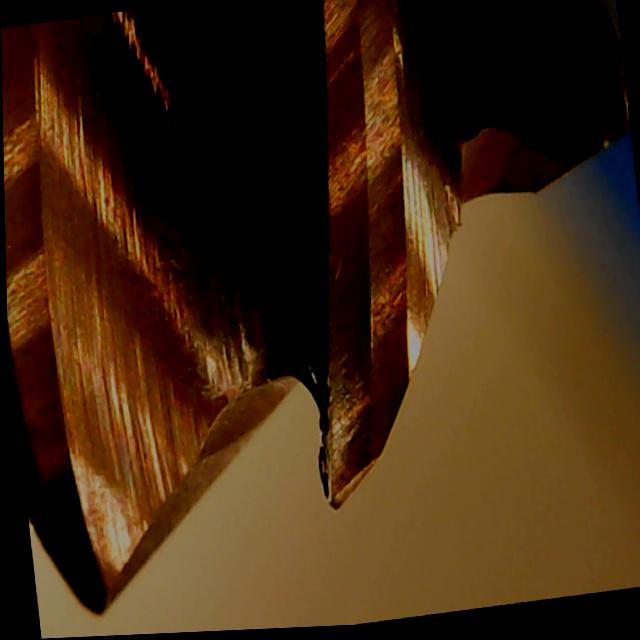Tool-wear-class-1: (275, 292, 432, 527)
